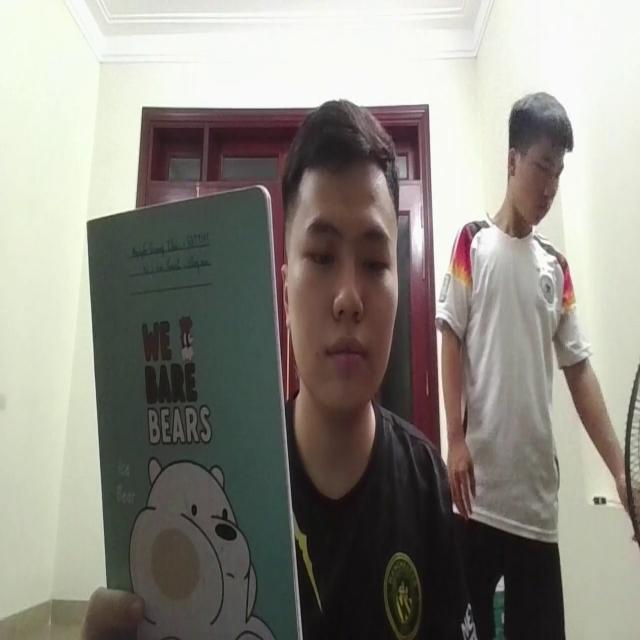book: (87, 178, 306, 640)
extra_person: (449, 78, 590, 618)
student: (269, 108, 448, 640)
